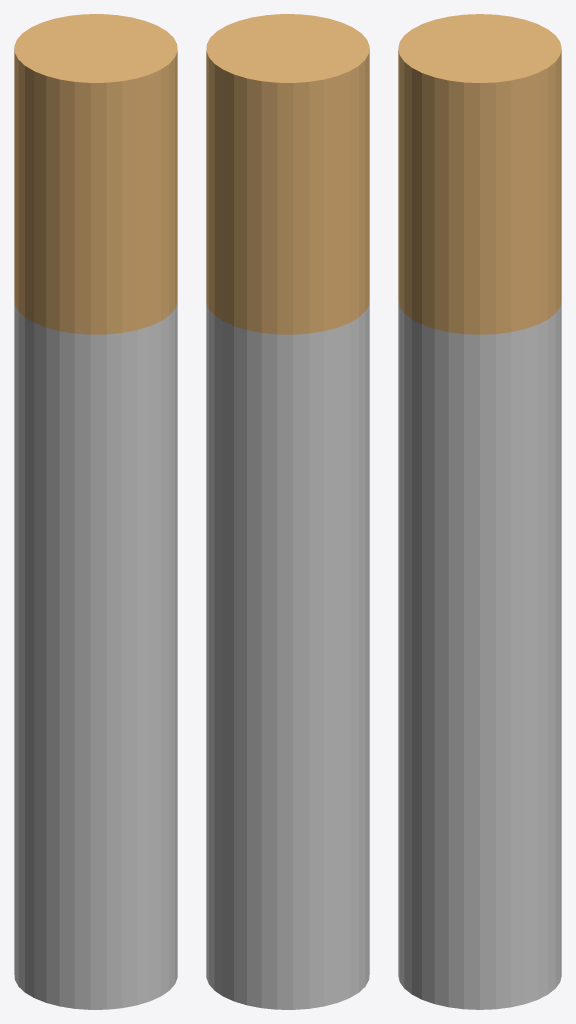
File: cigarette_short.glb
The picture shows the model from 3 angles, left to right: view 1: azimuth 30°, elevation 25°; view 2: azimuth 150°, elevation 25°; view 3: azimuth 270°, elevation 25°; orthographic projection.
Visible parts, largest first — view 1: Cylinder; view 2: Cylinder; view 3: Cylinder.
Part boxes in pixels (<box>): Cylinder: <box>14,14,177,1009</box>; Cylinder: <box>206,14,369,1009</box>; Cylinder: <box>398,14,561,1009</box>.
Size of the model in its own units: 4 by 25 by 4.
